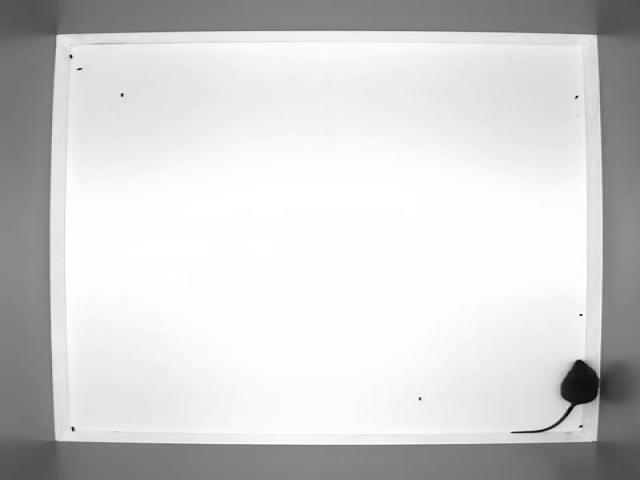Tikus: (515, 356, 602, 444)
